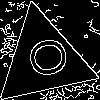O: (18, 34, 70, 82)
